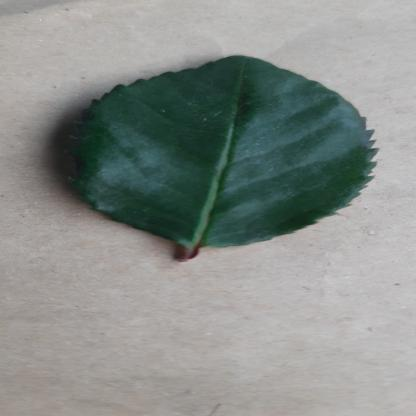normal: (58, 53, 381, 252)
